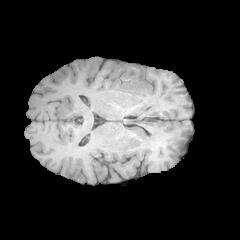glioma: (107, 62, 150, 98)
